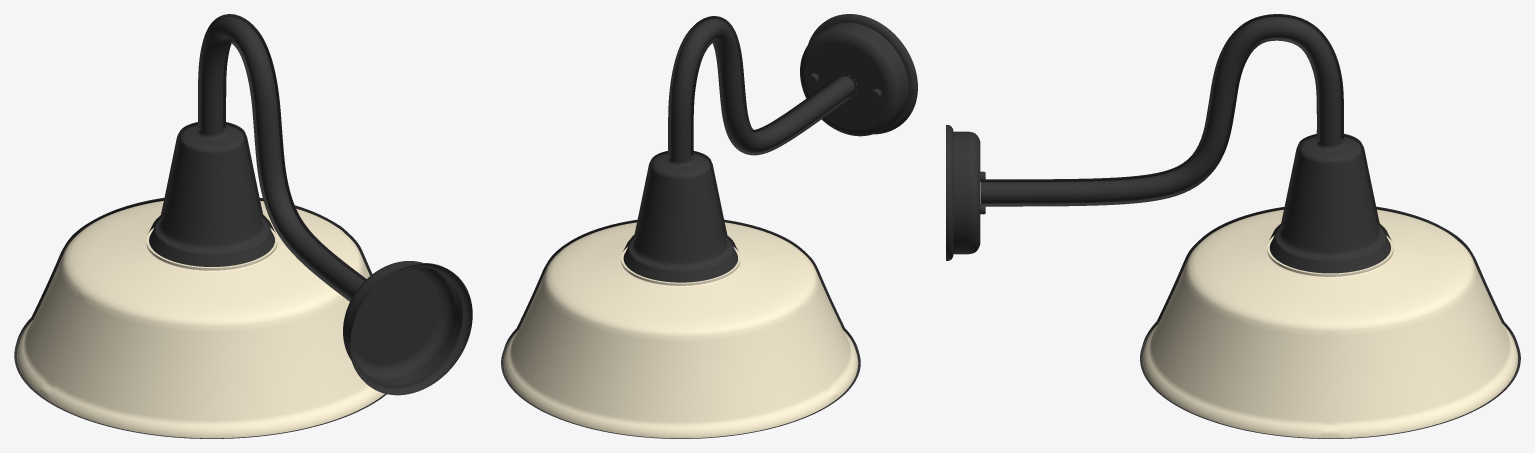
File: farmhouse-wall-sconce.glb
3 renders of one model, left to right at view 1: azimuth 30°, elevation 25°; view 2: azimuth 150°, elevation 25°; view 3: azimuth 270°, elevation 25°, orthographic. The views are drawn at different scales.
Visible parts, largest first — view 1: lamp interior, lamp exterior.002; view 2: lamp interior, lamp exterior.002; view 3: lamp interior, lamp exterior.002.
Part boxes in pixels (x1=…): lamp interior: x1=17, y1=200, x2=384, y2=438; lamp exterior.002: x1=14, y1=14, x2=472, y2=438; lamp interior: x1=503, y1=222, x2=858, y2=438; lamp exterior.002: x1=501, y1=14, x2=917, y2=438; lamp interior: x1=1142, y1=209, x2=1518, y2=438; lamp exterior.002: x1=946, y1=14, x2=1520, y2=438.
Size of the model in its own units: 0.3556 by 0.354 by 0.5366.
